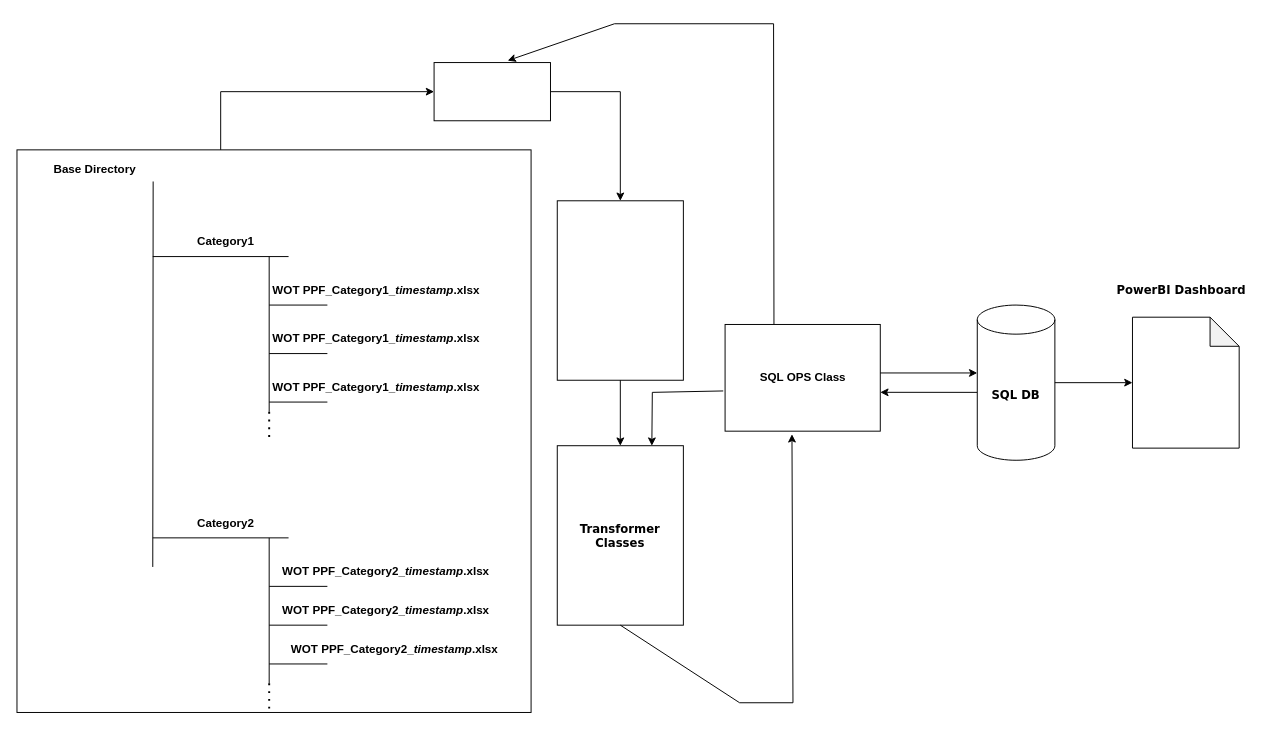
The diagram is 1271 pixels wide and 731 high, and some of its shapes have lost their labels. Each missing label, with the centre of its shape:
"File Ops Class" goes at [491,91].
"Reader Classes" goes at [619,290].
